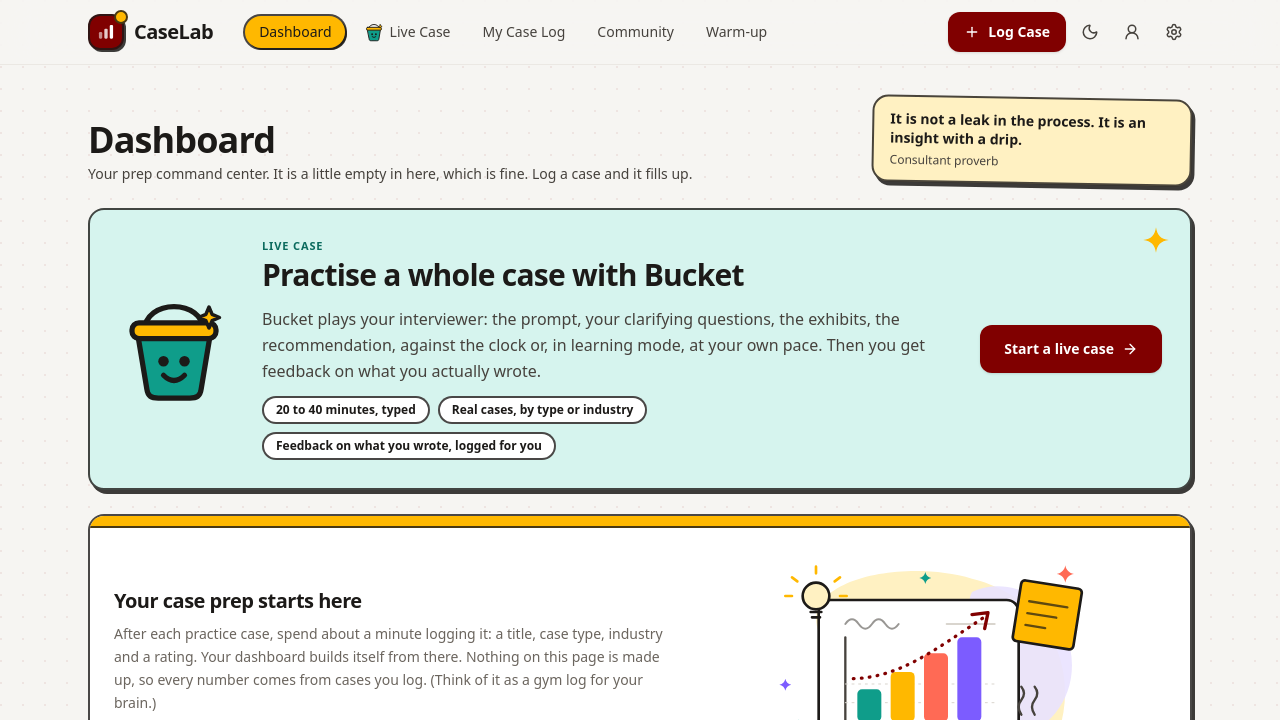
Test: How I like to meet › refuses a link that is not one, says why, and never asks the database
This screenshot has width=1280, height=720.
Check: the heading "Dashboard" is shown, box top-left (88, 120), bottom-right (275, 160)
Click the button named "Profile and privacy".
click(1132, 32)  # box top-left (1114, 14), bottom-right (1150, 50)
(page scrolled)
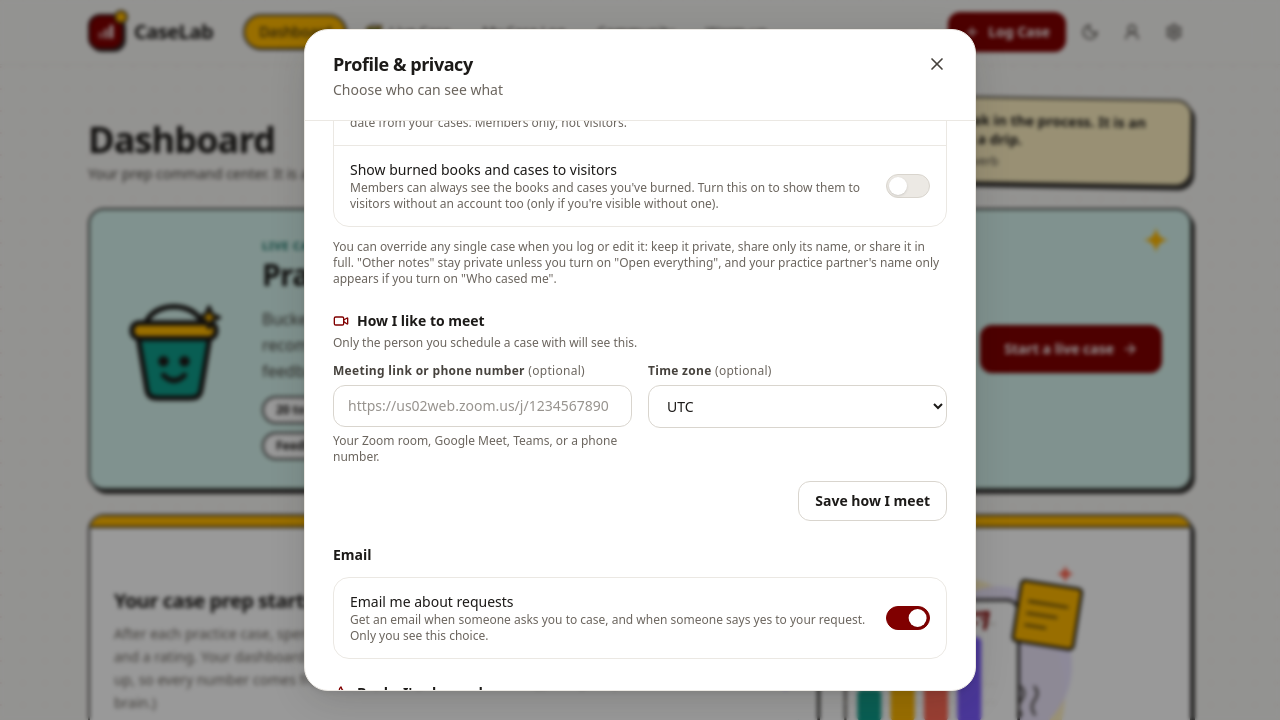
Check: the element "How I like to meet" is shown, box top-left (333, 311), bottom-right (947, 521)
Type "javascript:alert(1)" into the field labelled "Meeting link or phone number (optional)".
click(482, 406); type("javascript:alert(1)")  # box top-left (333, 385), bottom-right (632, 427)
Click the button "Save how I meet".
click(873, 501)  # box top-left (798, 481), bottom-right (947, 521)
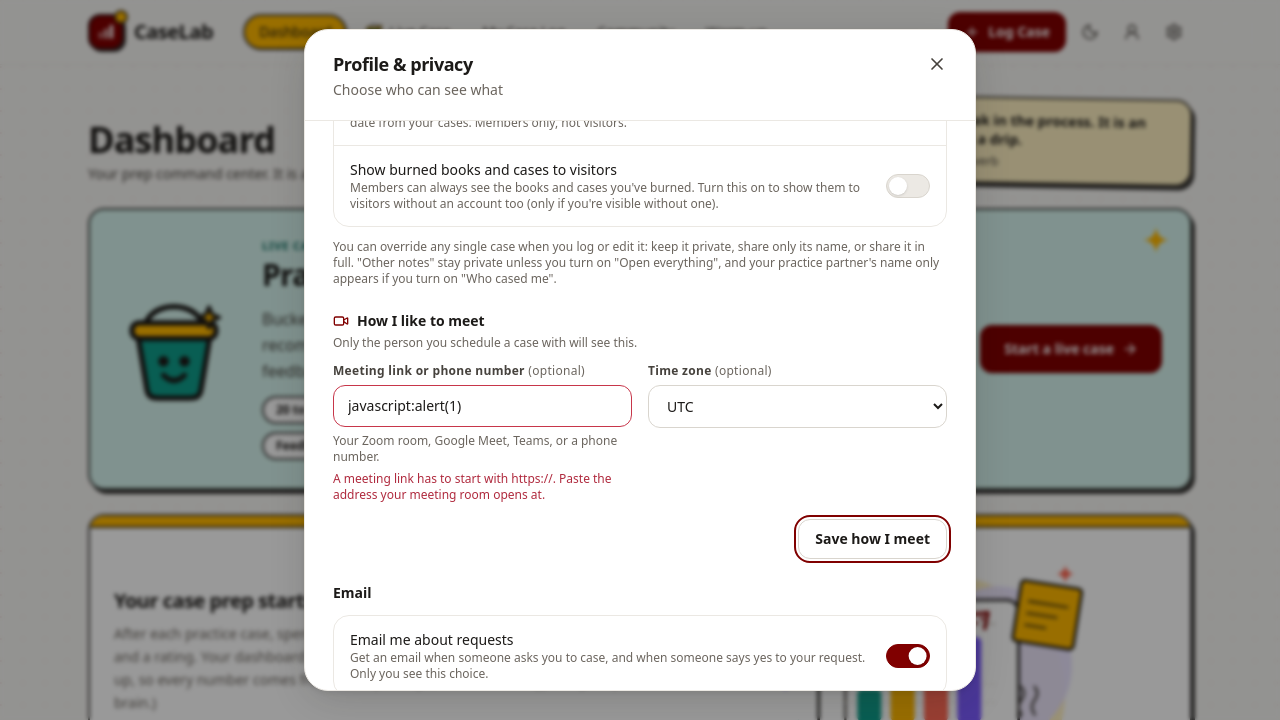
Replace the text in the field labelled "Meeting link or phone number (optional)" with "http://zoom.us/j/1" at {"x": 482, "y": 406}, box top-left (333, 385), bottom-right (632, 427)
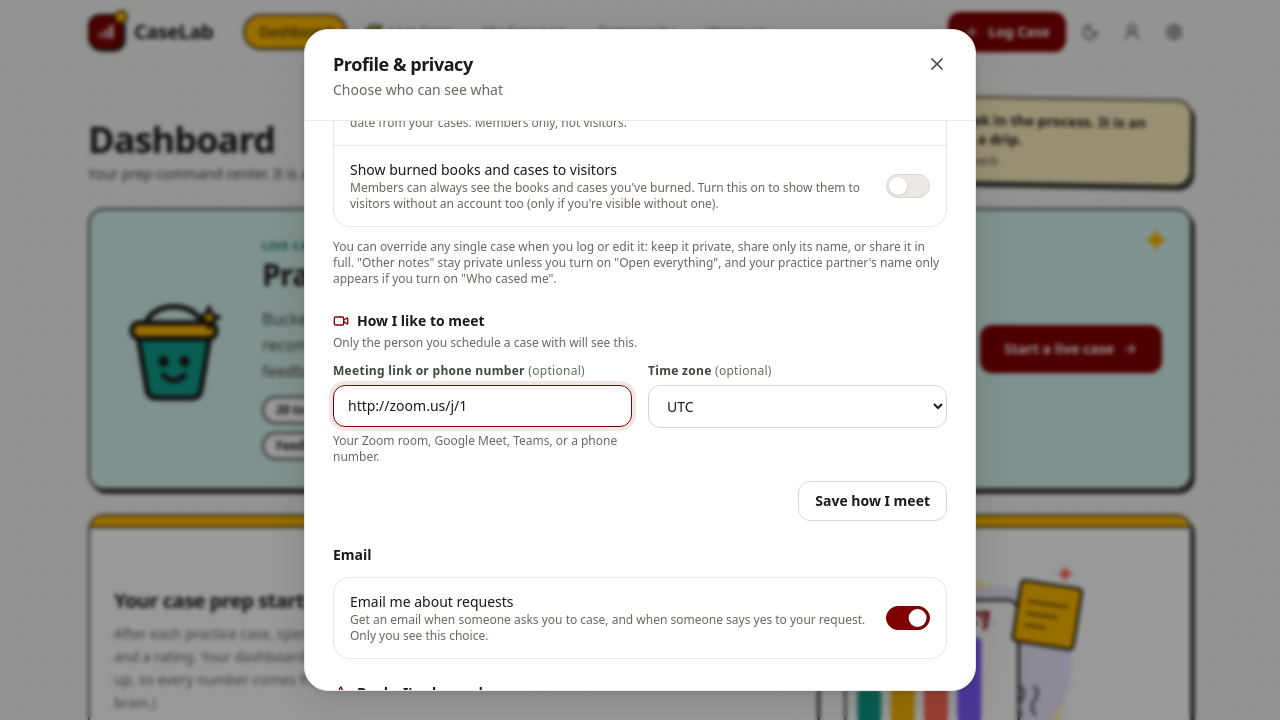
Click the button "Save how I meet".
click(873, 501)  # box top-left (798, 481), bottom-right (947, 521)
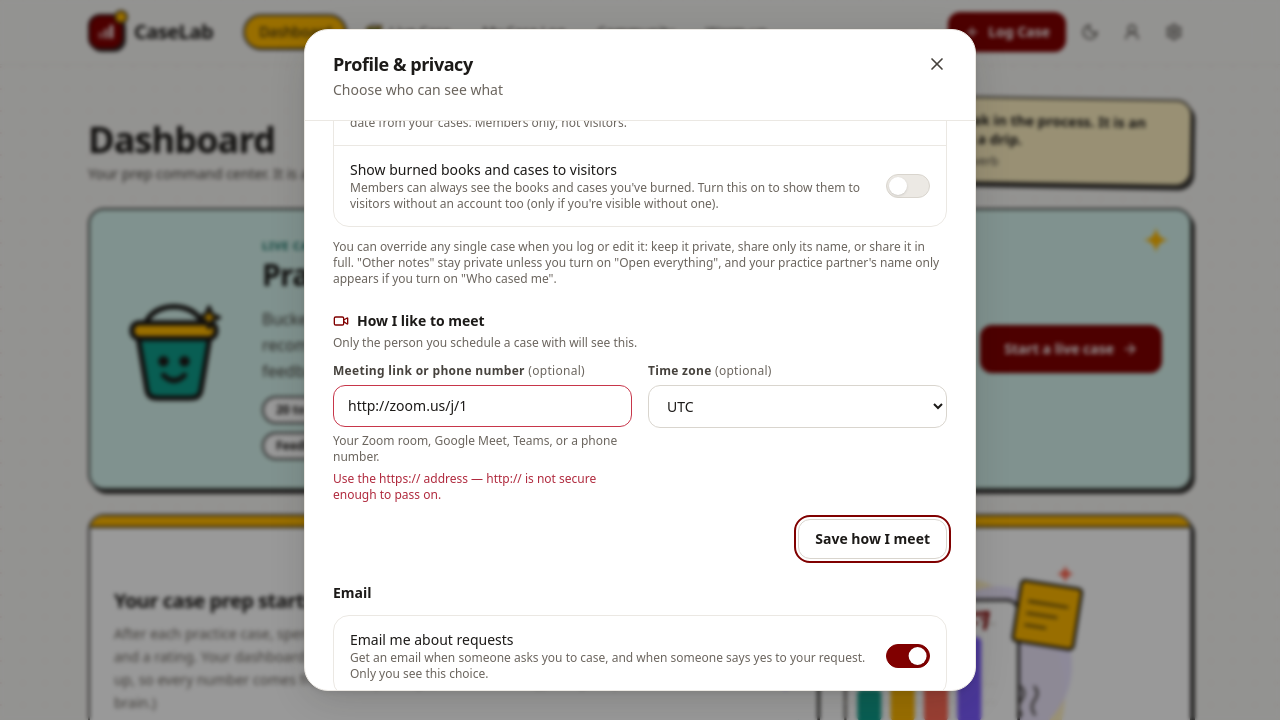
Check: the message reads "Use the https:// address — http:// is not secure enough to pass on.", box top-left (333, 470), bottom-right (596, 503)
Replace the text in the field labelled "Meeting link or phone number (optional)" with "ask me on Slack" at {"x": 482, "y": 406}, box top-left (333, 385), bottom-right (632, 427)
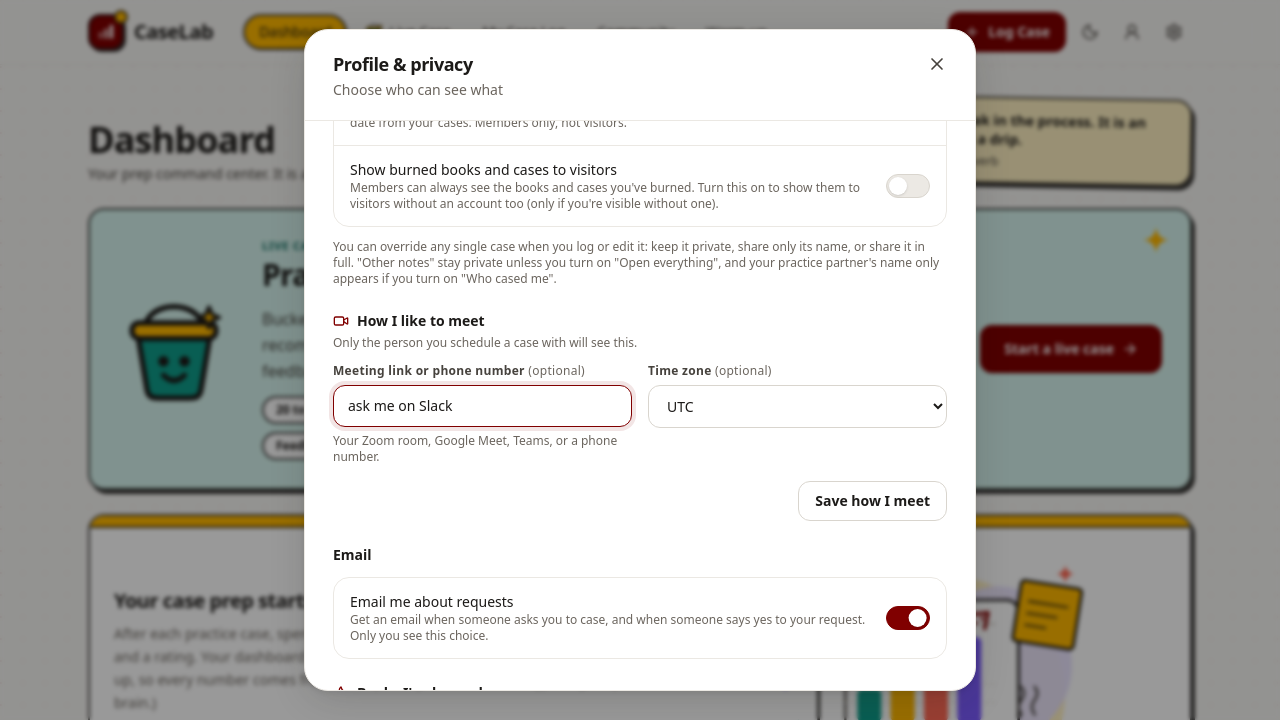
Click the button "Save how I meet".
click(873, 501)  # box top-left (798, 481), bottom-right (947, 521)
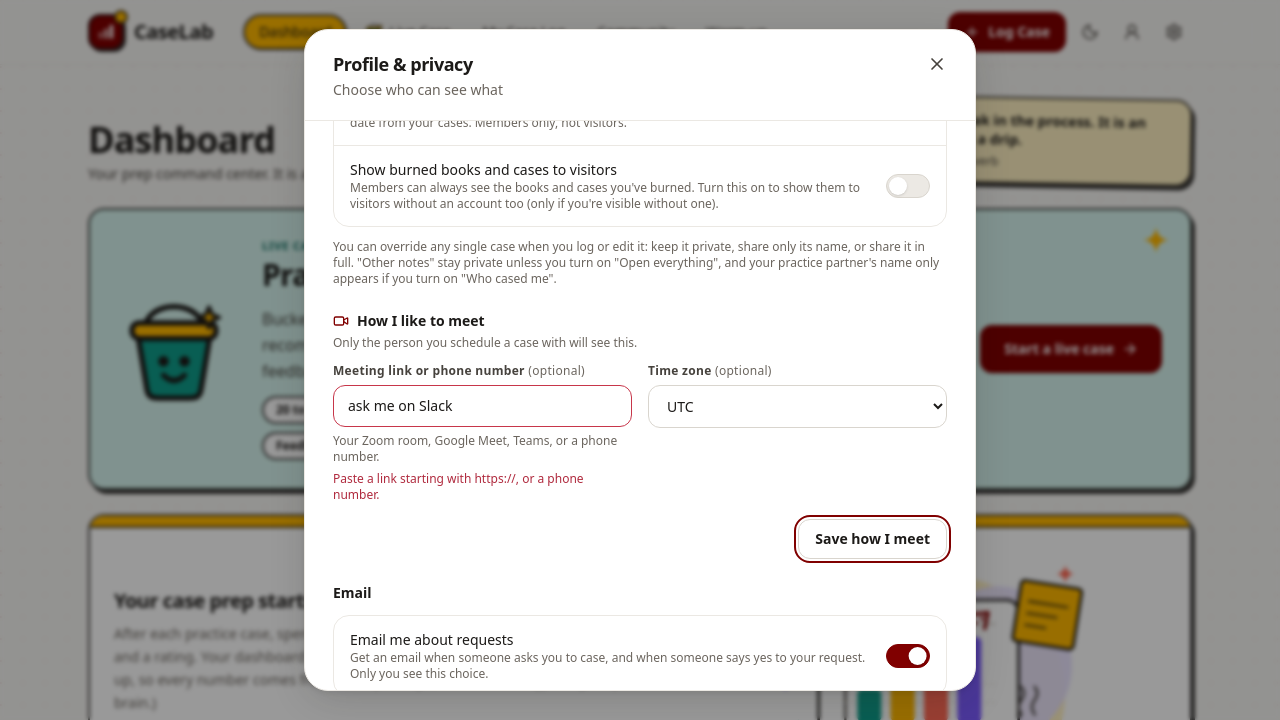
Check: the message reads "Paste a link starting with https://, or a phone number.", box top-left (333, 470), bottom-right (584, 503)
